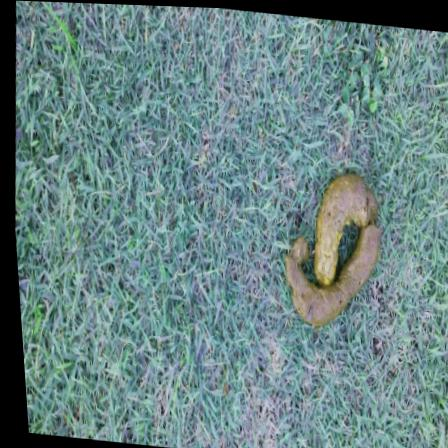dog-poop: (269, 145, 390, 336)
